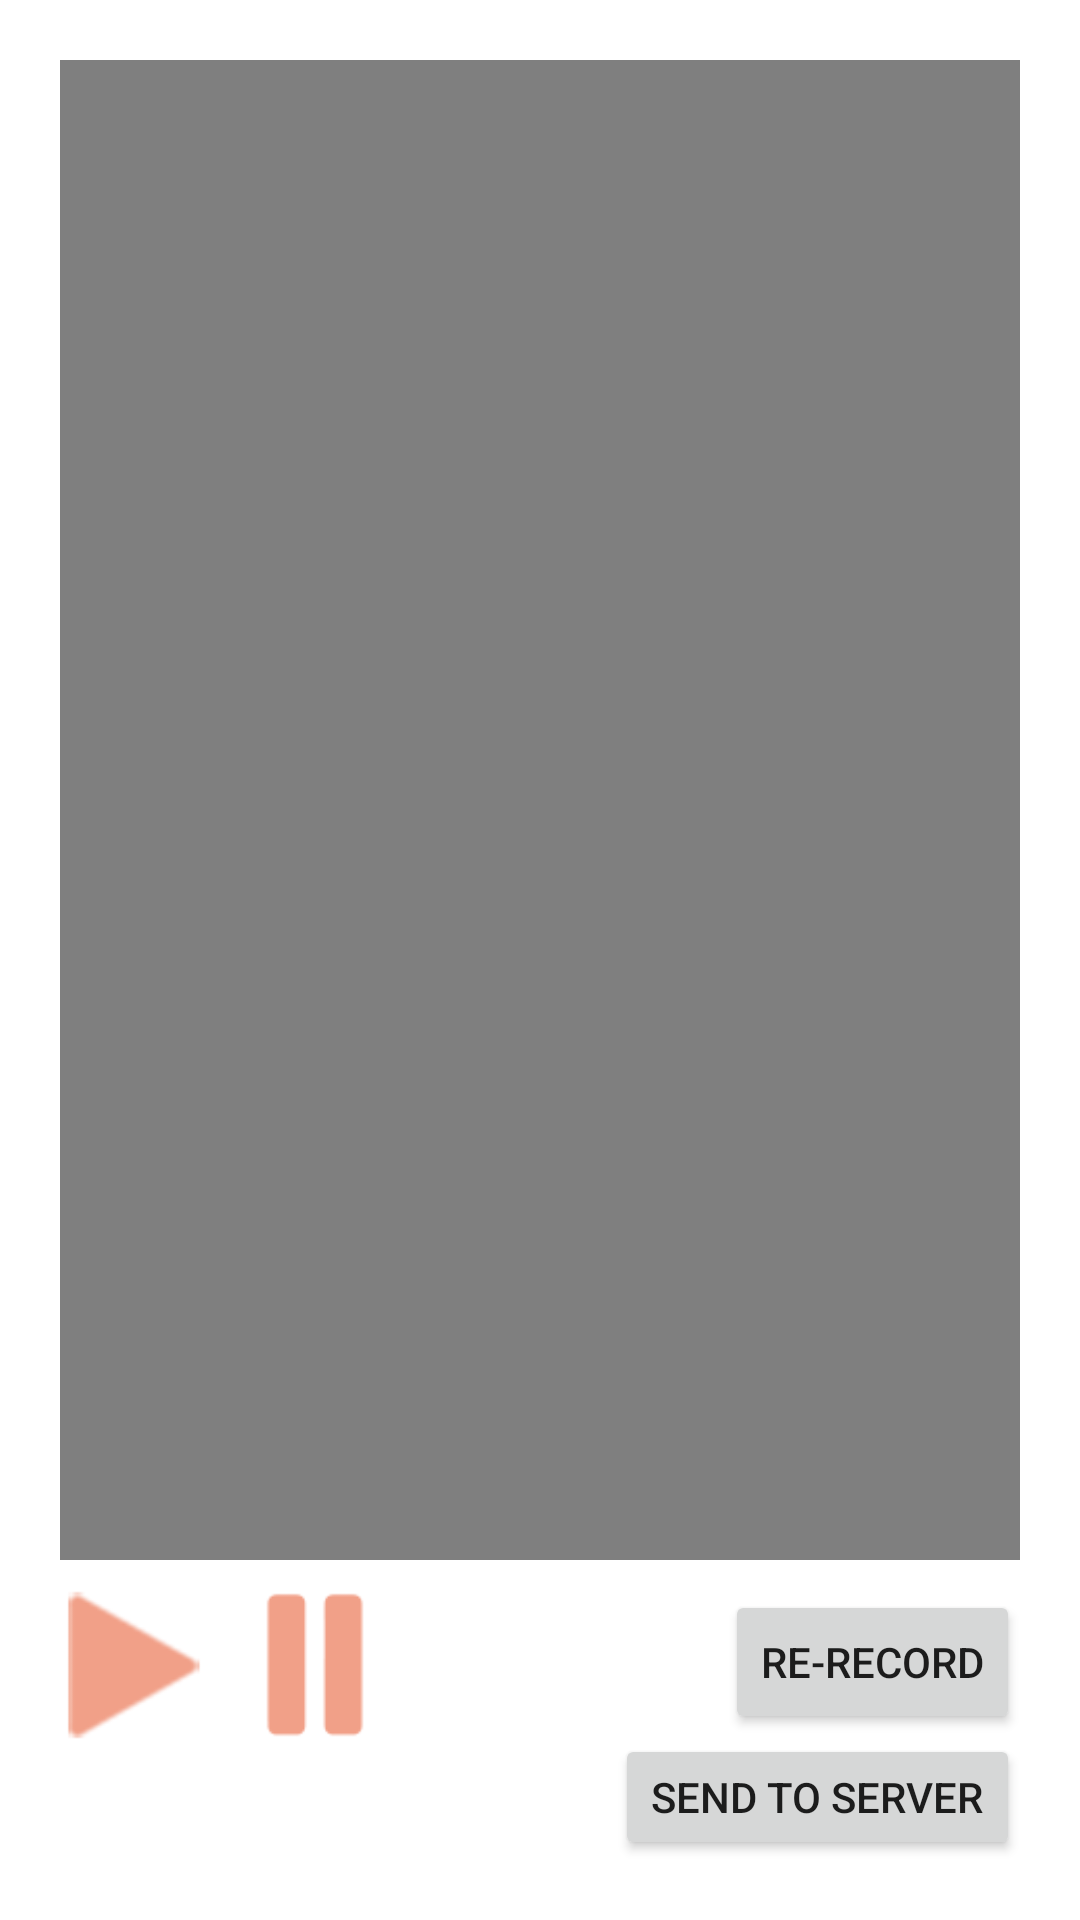

Icon click points for this 1080x1920 phone screenshot, format (x=x, y=y):
pause: (x=315, y=1665)
play: (x=134, y=1665)
